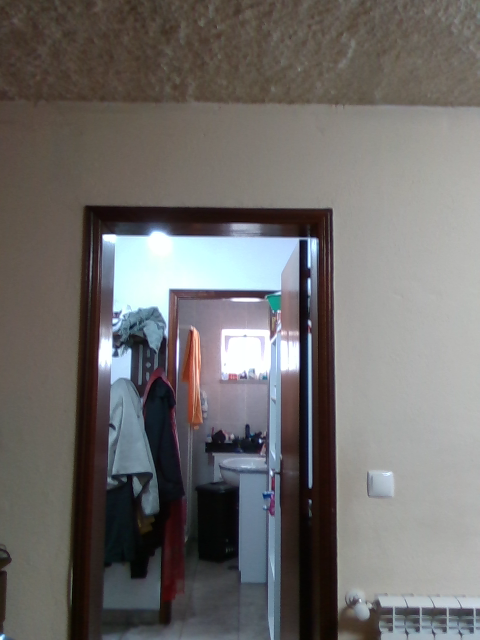open: (65, 203, 333, 639)
